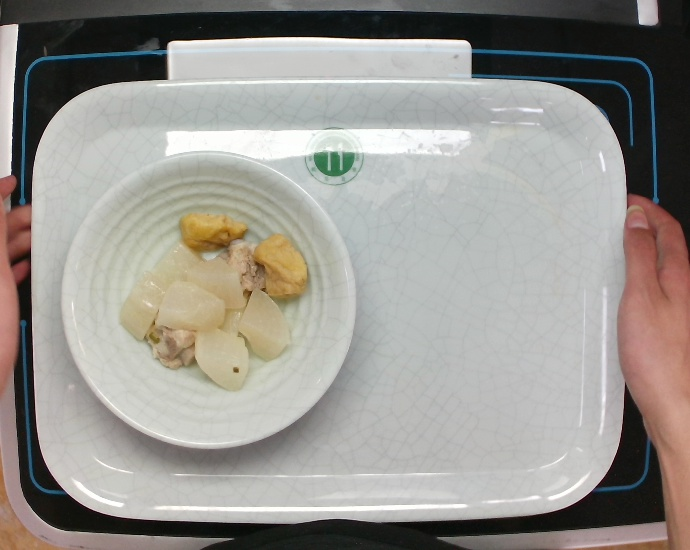JYsf-Xiao_Tang_Wan: (60, 147, 362, 456)
